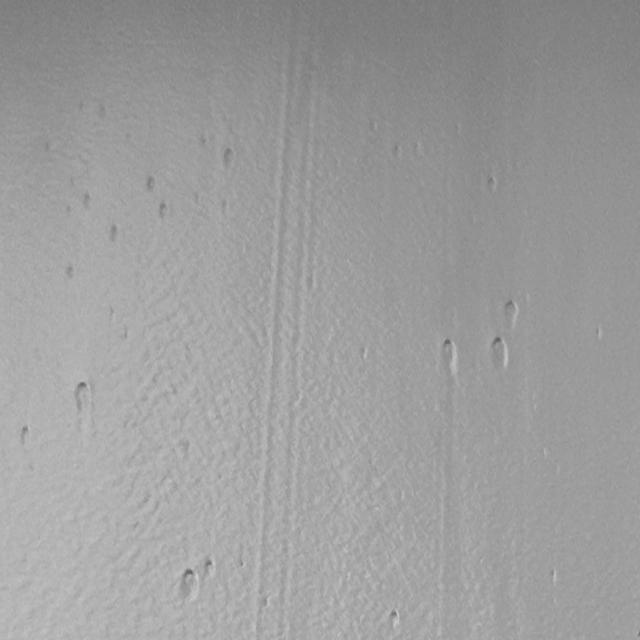pin holes: (436, 338, 461, 377), (69, 379, 93, 416), (486, 338, 509, 372), (176, 567, 199, 601), (499, 298, 520, 330), (218, 145, 236, 171), (386, 610, 404, 634), (482, 174, 500, 198), (78, 190, 96, 213), (388, 141, 406, 164), (17, 425, 34, 448), (108, 223, 124, 246), (158, 199, 172, 224), (63, 263, 79, 283), (143, 176, 159, 196), (358, 344, 372, 364), (202, 559, 215, 579), (591, 326, 605, 344), (262, 593, 272, 613), (548, 569, 560, 585), (238, 556, 248, 573)
